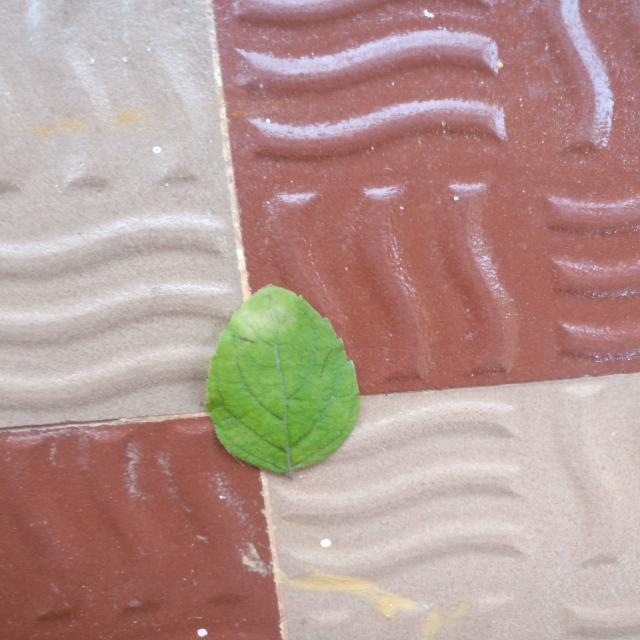defectedtulsi: (222, 286, 302, 345)
tulsi: (207, 286, 360, 472)
